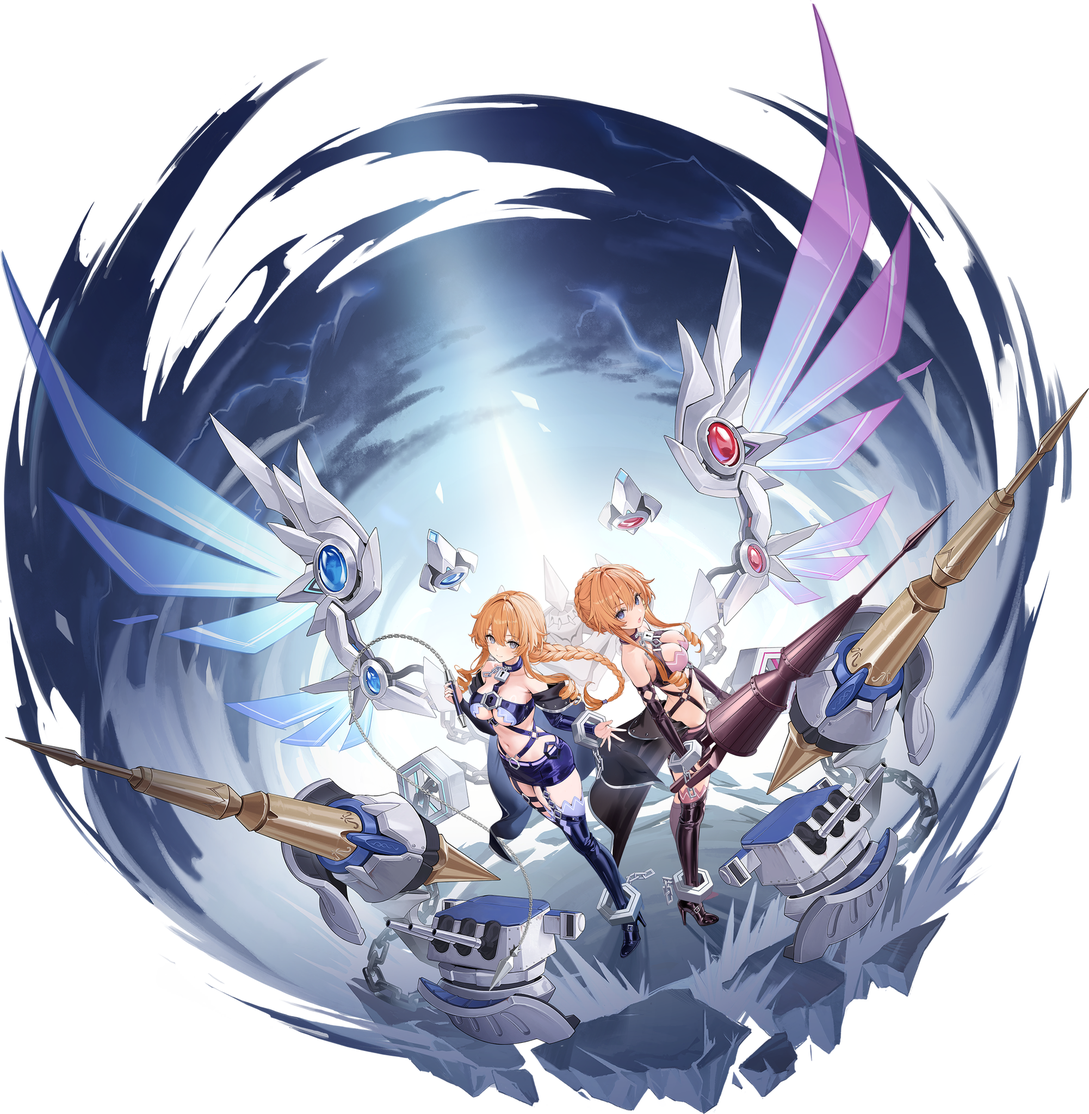person: (556, 535, 797, 934)
